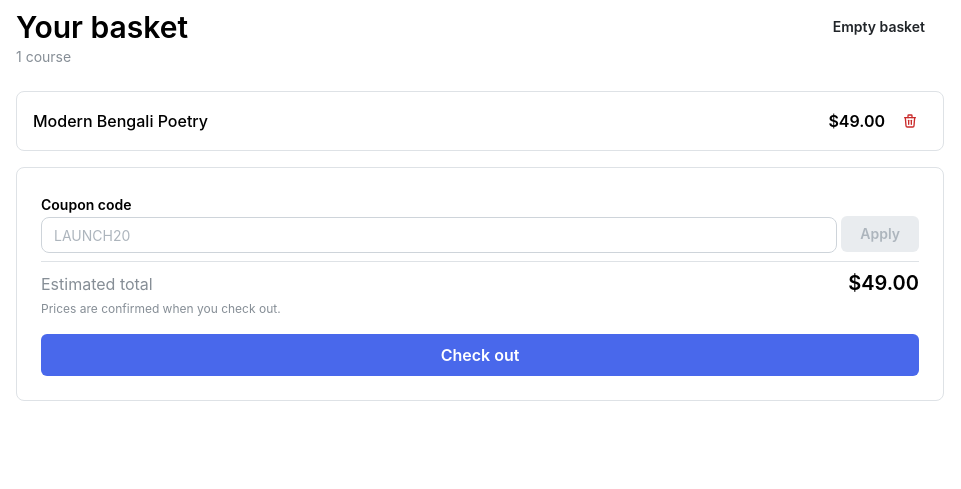
CartRoute › surfaces a lapsed subscription as its own message, not a generic failure
Step 1. Click the button "Check out" → (480,355), box [41,334,919,376]
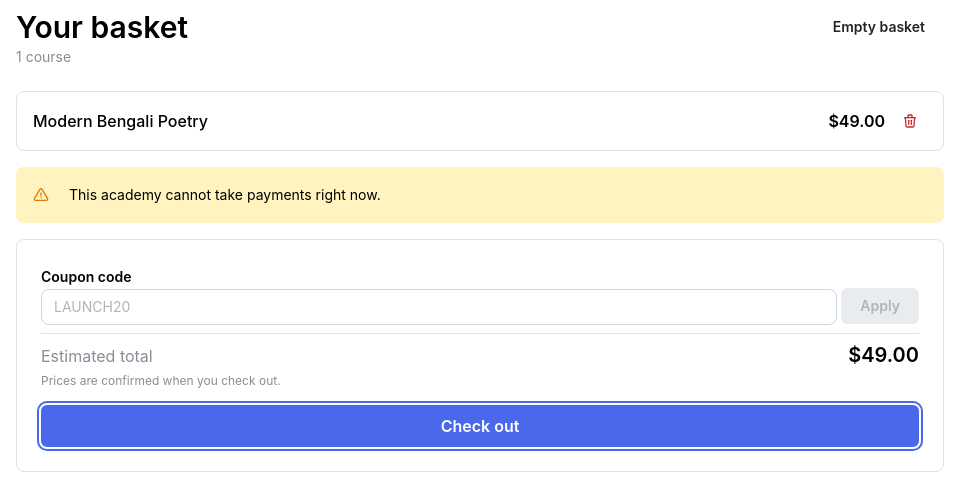
Expected: the text "This academy cannot take payments right now." is shown, [69,186,381,203]
